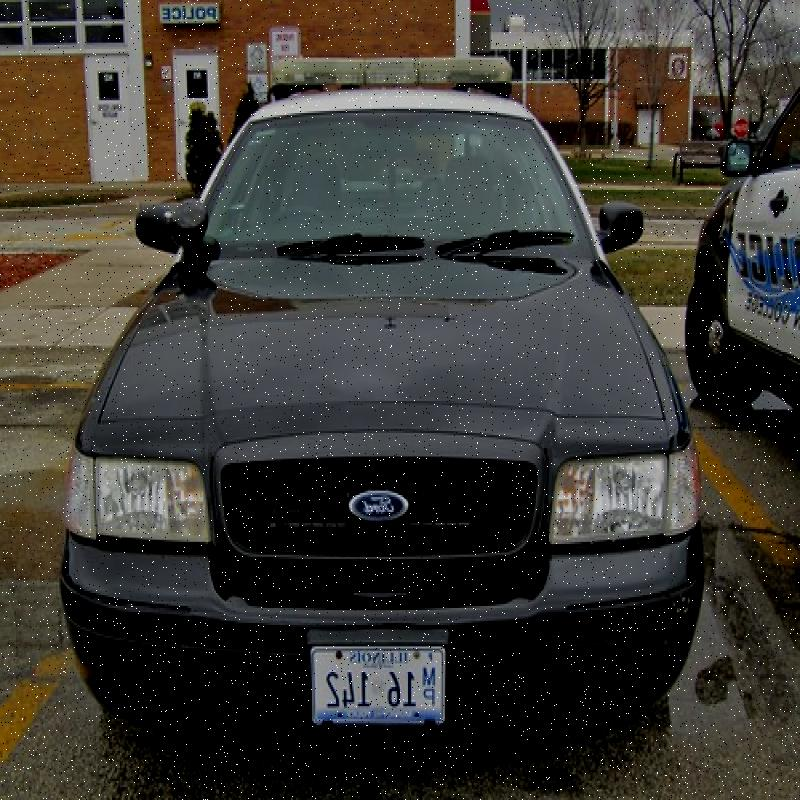AmbulanceSiren: (265, 36, 518, 121)
